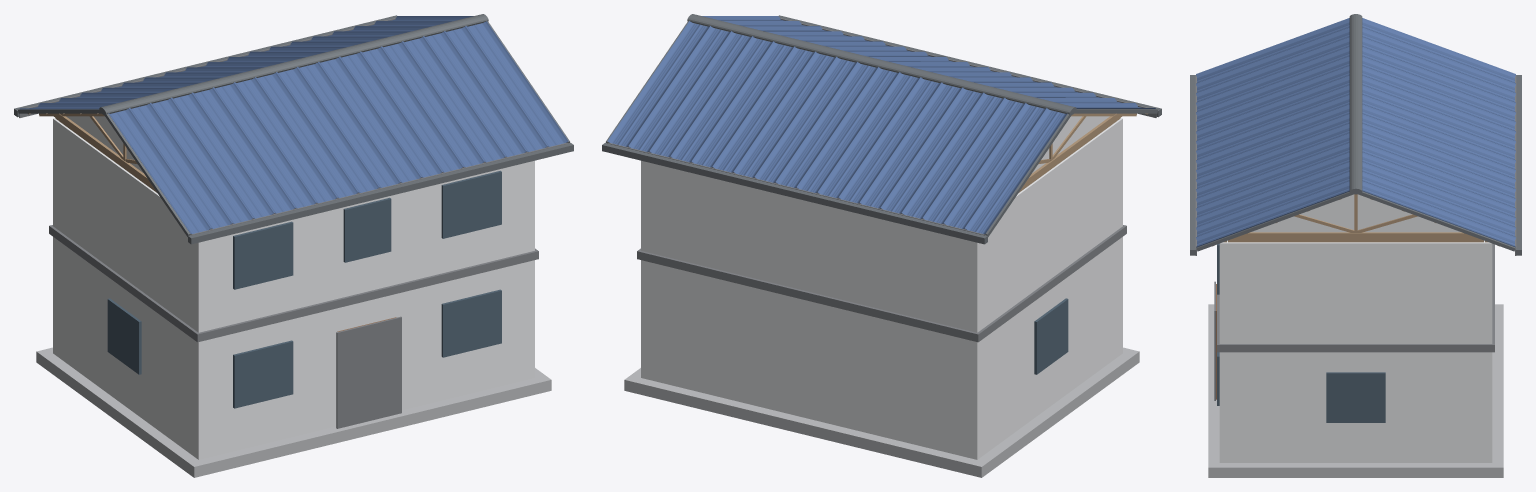
Rendered from Mega_S_Rib_Two_Storey_8x6.glb.
3 views of the same model, side by side, from view 1: azimuth 30°, elevation 25°; view 2: azimuth 150°, elevation 25°; view 3: azimuth 270°, elevation 25° (orthographic). The views are drawn at different scales.
Parts seen in each view (by area): view 1: GroundFloor_Walls, Foundation, Door_Frame, SecondFloor_BandTrim, Gutter_Front, Ridge_Cap, Window_GF_Left, Window_GF_Right, Window_2F_Right, Window_2F_Left, RoofSheet_01, RoofSheet_06 (+23 smaller); view 2: GroundFloor_Walls, Foundation, SecondFloor_BandTrim, Gutter_Back, Ridge_Cap, RoofSheet_19, RoofSheet_24, RoofSheet_28, RoofSheet_30, RoofSheet_36, RoofSheet_26, RoofSheet_33 (+17 smaller); view 3: GroundFloor_Walls, Foundation, Gable_Wall_Right, Window_Side_Right, SecondFloor_BandTrim, Ridge_Cap, Truss_TieBeam_6, RoofSheet_18, RoofSheet_36, RoofSheet_09, RoofSheet_27, RoofSheet_03 (+36 smaller).
Boxes of the visible parts, box(x1,y1,x2,y2) form: GroundFloor_Walls: box(53, 118, 534, 459); Foundation: box(36, 347, 551, 477); Door_Frame: box(336, 316, 401, 428); SecondFloor_BandTrim: box(49, 225, 538, 342); Gutter_Front: box(188, 142, 573, 244); Ridge_Cap: box(99, 14, 488, 114); Window_GF_Left: box(233, 340, 293, 408); Window_GF_Right: box(441, 289, 501, 357); Window_2F_Right: box(441, 170, 501, 238); Window_2F_Left: box(233, 221, 293, 289); RoofSheet_01: box(108, 108, 211, 233); RoofSheet_06: box(213, 82, 316, 208); GroundFloor_Walls: box(641, 118, 1122, 459); Foundation: box(624, 347, 1139, 477); SecondFloor_BandTrim: box(637, 225, 1126, 342); Gutter_Back: box(602, 142, 987, 244); Ridge_Cap: box(687, 14, 1076, 114); RoofSheet_19: box(964, 108, 1067, 233); RoofSheet_24: box(859, 82, 962, 208); RoofSheet_28: box(775, 62, 878, 187); RoofSheet_30: box(733, 51, 836, 177); RoofSheet_36: box(607, 21, 709, 146); RoofSheet_26: box(817, 72, 920, 198); RoofSheet_33: box(670, 36, 773, 162); GroundFloor_Walls: box(1219, 240, 1492, 462); Foundation: box(1208, 304, 1503, 477); Gable_Wall_Right: box(1251, 194, 1460, 232); Window_Side_Right: box(1326, 372, 1385, 422); SecondFloor_BandTrim: box(1217, 243, 1494, 352); Ridge_Cap: box(1349, 14, 1362, 194); Truss_TieBeam_6: box(1231, 232, 1480, 239); RoofSheet_18: box(1196, 181, 1349, 247); RoofSheet_36: box(1362, 181, 1515, 247); RoofSheet_09: box(1196, 94, 1349, 160); RoofSheet_27: box(1362, 94, 1515, 160); RoofSheet_03: box(1196, 37, 1349, 102).
Bounding box in the file's own units: 9.1 × 7.16 × 7.3.
